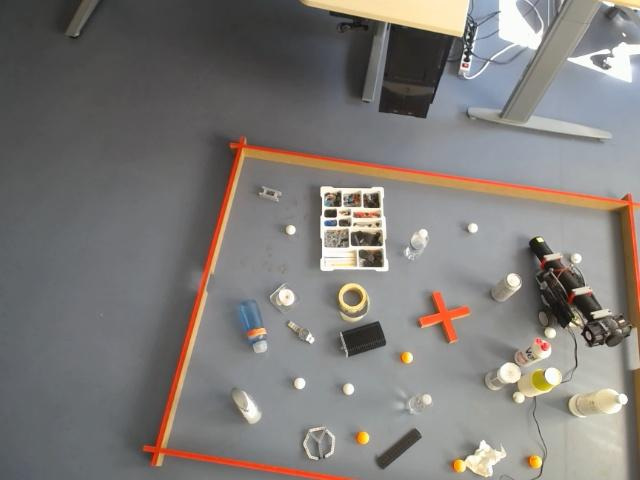orange: (528, 454, 542, 472), (400, 350, 415, 365), (356, 432, 371, 446), (454, 459, 464, 473)
robot: (530, 237, 634, 347)
robot-front: (530, 237, 552, 258)
white: (292, 376, 309, 391), (342, 382, 356, 396), (284, 223, 298, 237), (466, 222, 479, 235), (512, 391, 524, 404), (570, 252, 582, 264), (545, 326, 556, 338)
